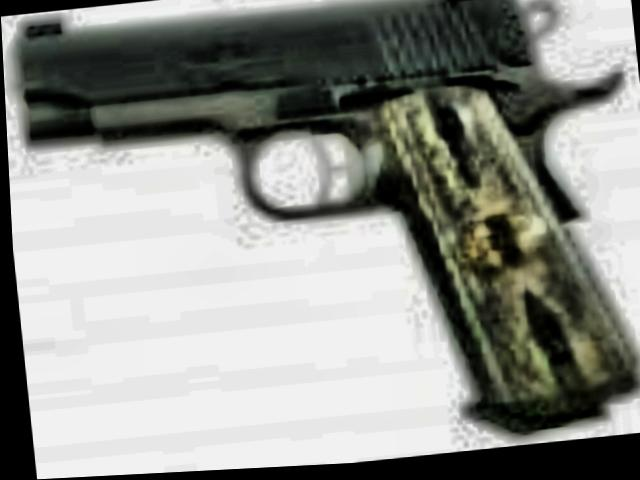pistol: (12, 0, 640, 480)
